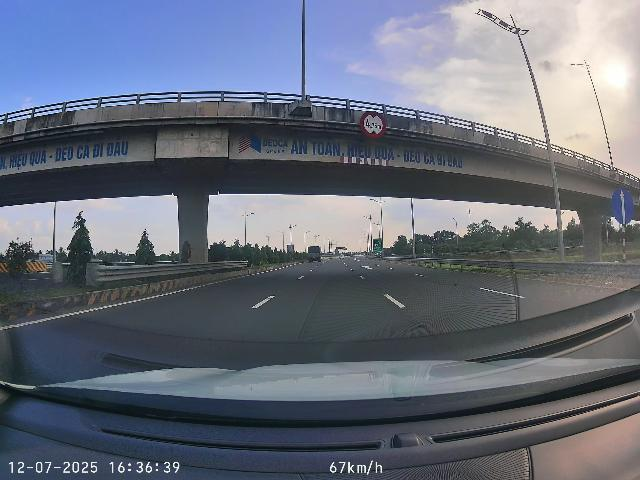301a-cac-xe-chi-duoc-di-thang: (612, 188, 634, 225)
